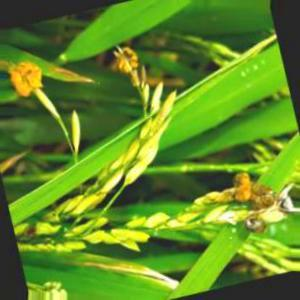Leaf_Scald: (230, 169, 258, 215), (8, 65, 39, 100), (118, 41, 142, 79)
